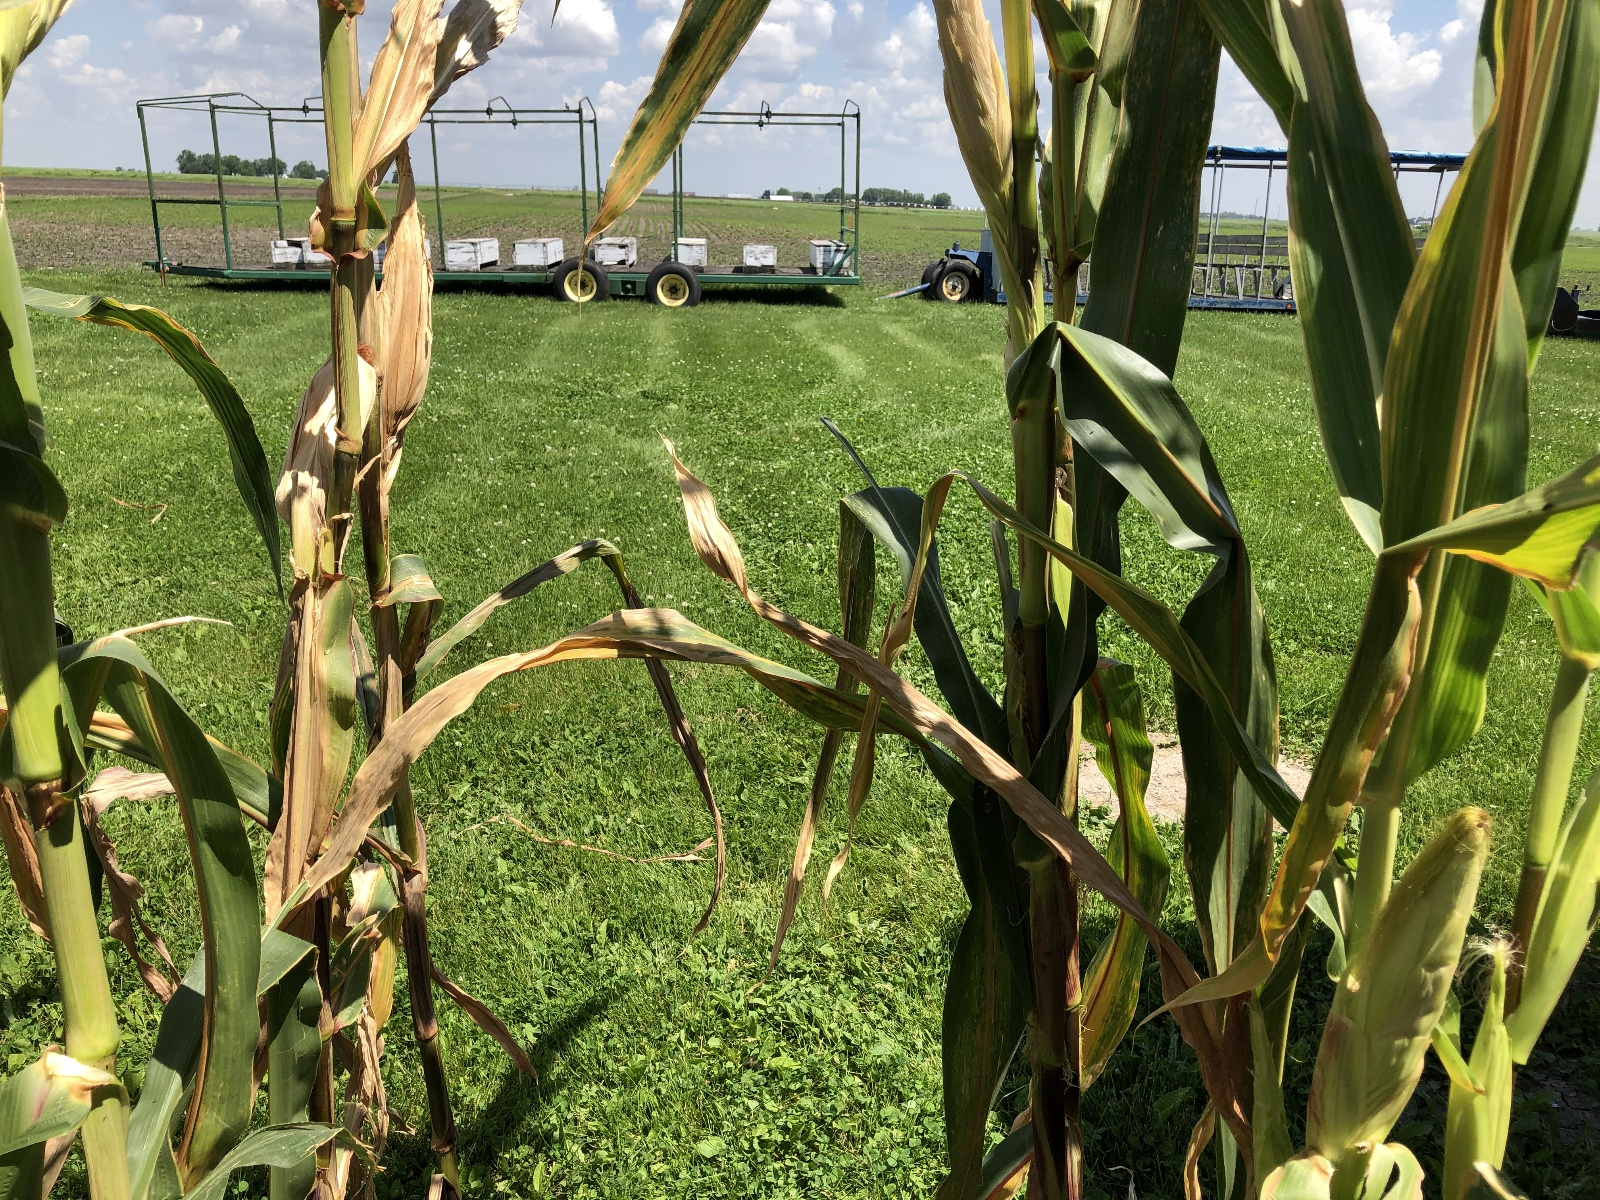ear: (1300, 789, 1503, 1162), (273, 340, 378, 523), (930, 3, 1010, 211), (378, 158, 441, 412)
